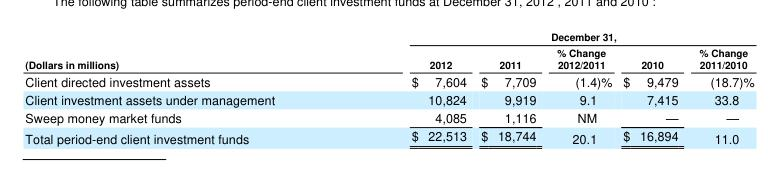table: (24, 29, 753, 147)
table column: (24, 29, 342, 147), (342, 29, 473, 147), (473, 29, 545, 147), (616, 29, 688, 147), (545, 29, 616, 147), (688, 29, 753, 147)
table column header: (24, 29, 753, 71)
table row: (24, 44, 753, 71), (24, 126, 753, 147), (24, 107, 753, 126), (24, 71, 753, 89), (24, 89, 753, 107), (24, 29, 753, 44)
table spanning cell: (24, 29, 342, 71), (342, 29, 753, 44)
